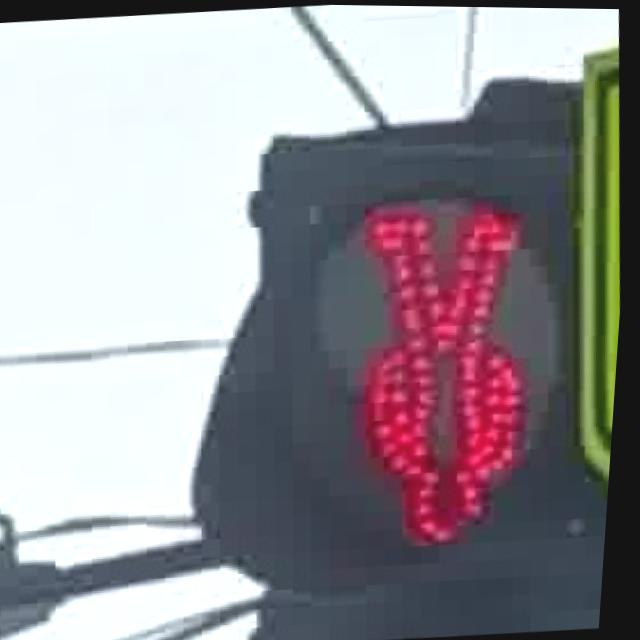red_light: (302, 178, 572, 583)
